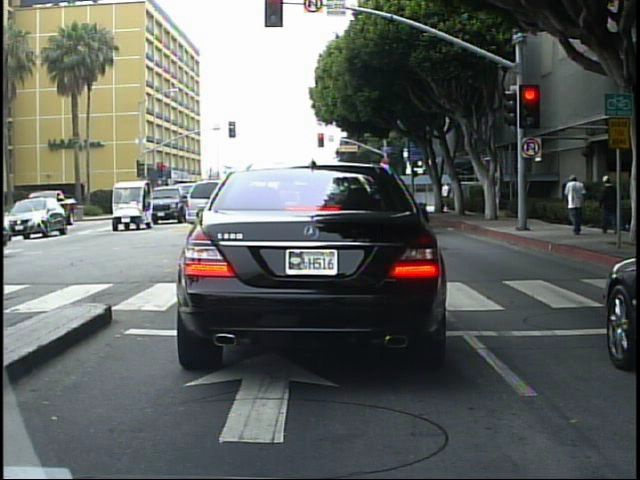person: (561, 169, 593, 241), (601, 170, 620, 239), (438, 179, 452, 214), (492, 179, 504, 218)
